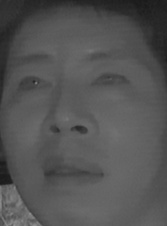eye: (90, 68, 130, 93), (15, 73, 52, 94)
mouth: (38, 155, 103, 192)
